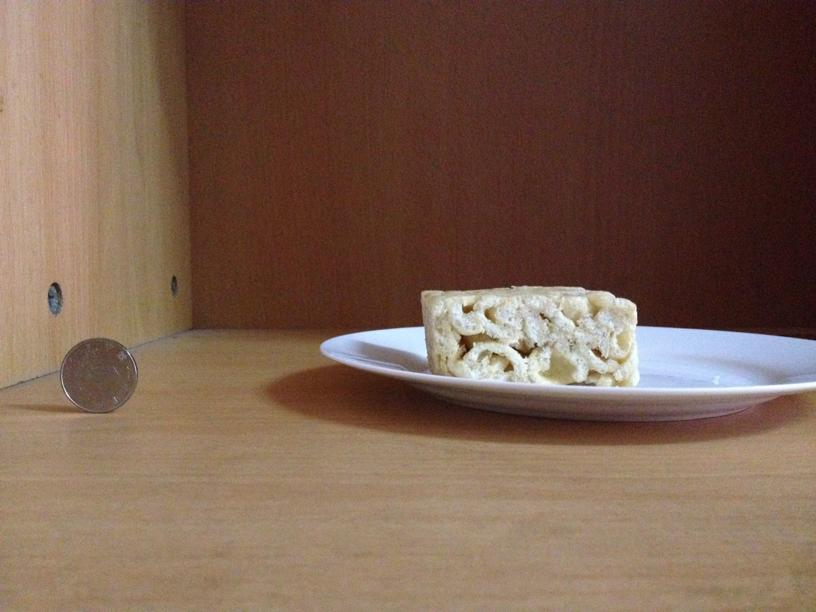coin: (58, 334, 140, 414)
sachima: (417, 280, 640, 388)
